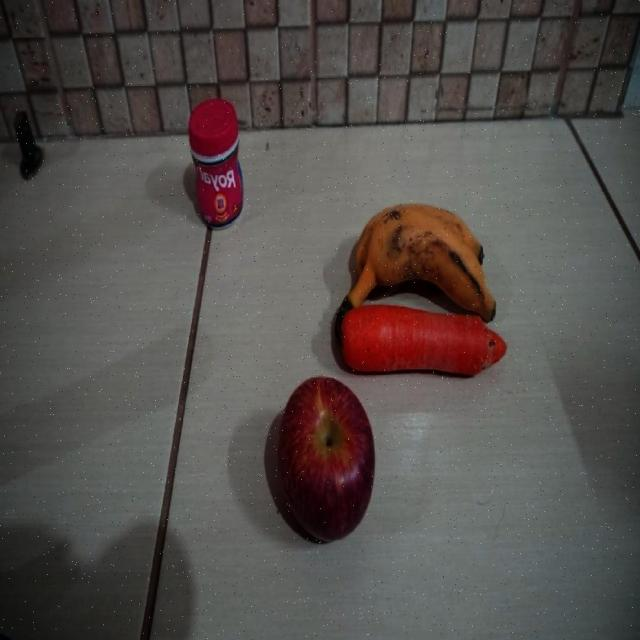Apple: (275, 379, 377, 536)
Banana: (338, 186, 500, 308)
Carrot: (337, 312, 508, 377)
Yeast: (190, 96, 243, 230)
